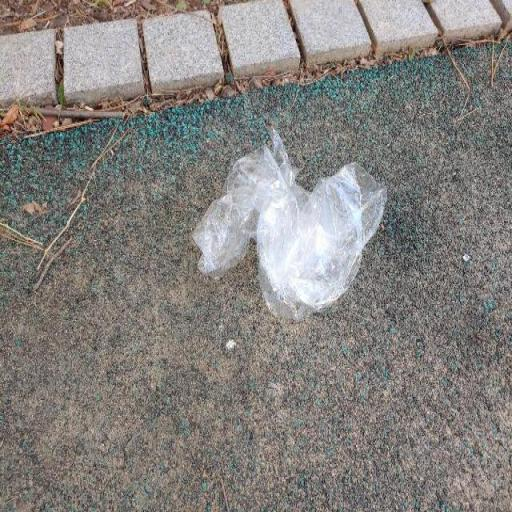plastic-bag: (188, 127, 390, 326)
